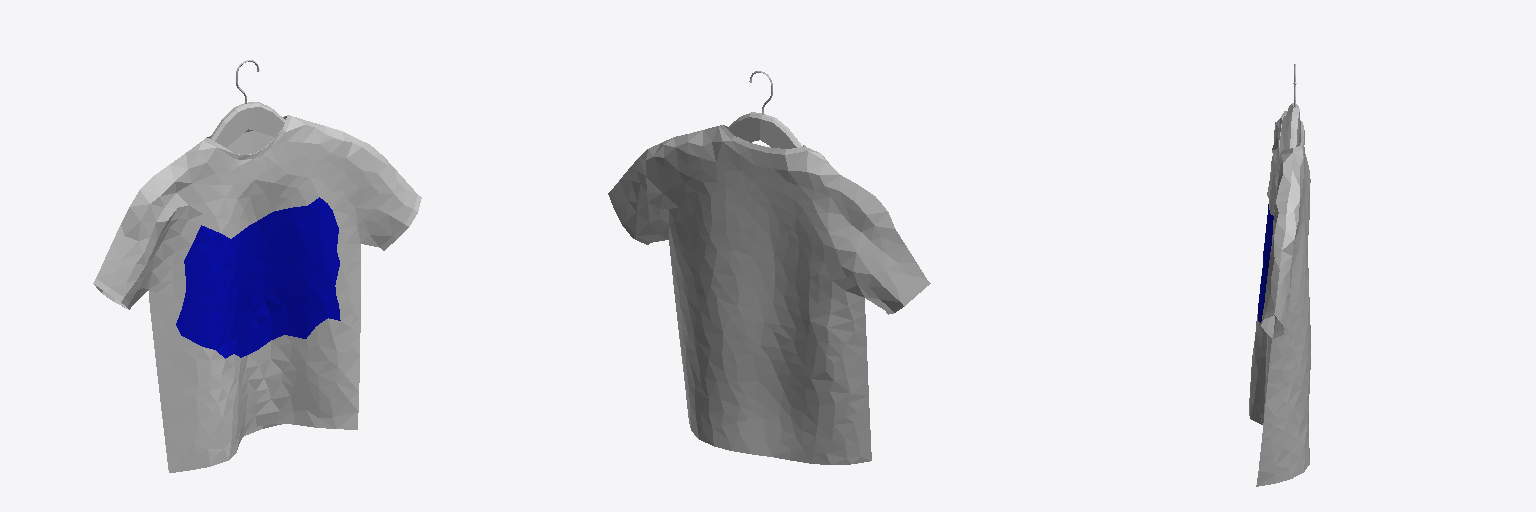
The model's file is Tshirt3.obj.
3 views of the same model, side by side, from view 1: azimuth 30°, elevation 25°; view 2: azimuth 150°, elevation 25°; view 3: azimuth 270°, elevation 25° (orthographic).
Parts seen in each view (by area): view 1: Shirt_on_Hanger_Shirt, Shirt_on_Hanger_front, Shirt_on_Hanger_Hanger; view 2: Shirt_on_Hanger_Shirt, Shirt_on_Hanger_backSide, Shirt_on_Hanger_Hanger; view 3: Shirt_on_Hanger_Shirt, Shirt_on_Hanger_backSide, Shirt_on_Hanger_front, Shirt_on_Hanger_Hanger.
Boxes of the visible parts, <box> form: Shirt_on_Hanger_Shirt: <box>93,115,421,472</box>; Shirt_on_Hanger_front: <box>176,197,340,358</box>; Shirt_on_Hanger_Hanger: <box>209,60,285,147</box>; Shirt_on_Hanger_Shirt: <box>608,125,930,464</box>; Shirt_on_Hanger_backSide: <box>683,191,834,429</box>; Shirt_on_Hanger_Hanger: <box>727,71,802,148</box>; Shirt_on_Hanger_Shirt: <box>1249,111,1310,486</box>; Shirt_on_Hanger_backSide: <box>1288,170,1310,427</box>; Shirt_on_Hanger_front: <box>1258,204,1273,322</box>; Shirt_on_Hanger_Hanger: <box>1286,64,1299,148</box>.
Bounding box in the file's own units: 20.22 × 22.59 × 3.38.